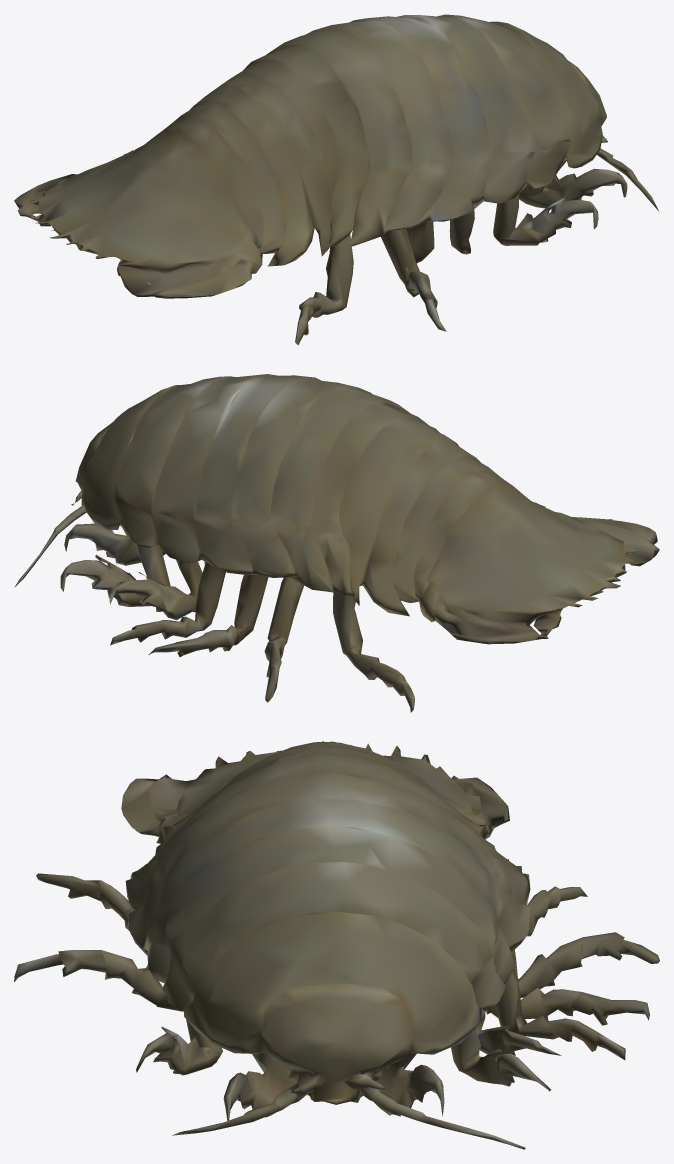
Rendered from giant-isopod.glb.
3 renders of one model, top to bottom at view 1: azimuth 30°, elevation 25°; view 2: azimuth 150°, elevation 25°; view 3: azimuth 270°, elevation 25°, orthographic. The views are drawn at different scales.
Visible parts, largest first — view 1: baked; view 2: baked; view 3: baked.
Part boxes in pixels (x1=…): baked: x1=14, y1=14, x2=659, y2=345; baked: x1=14, y1=374, x2=659, y2=712; baked: x1=14, y1=741, x2=659, y2=1149.
Size of the model in its own units: 1 by 0.3559 by 0.8458.
